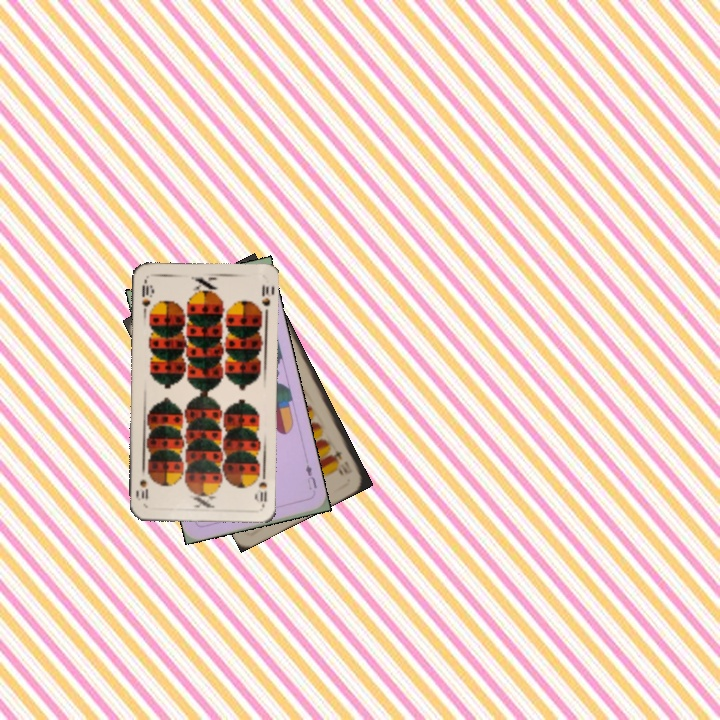E10: (331, 446, 355, 477)
EU: (301, 461, 320, 493)
S10: (252, 466, 269, 507), (138, 276, 154, 317)
